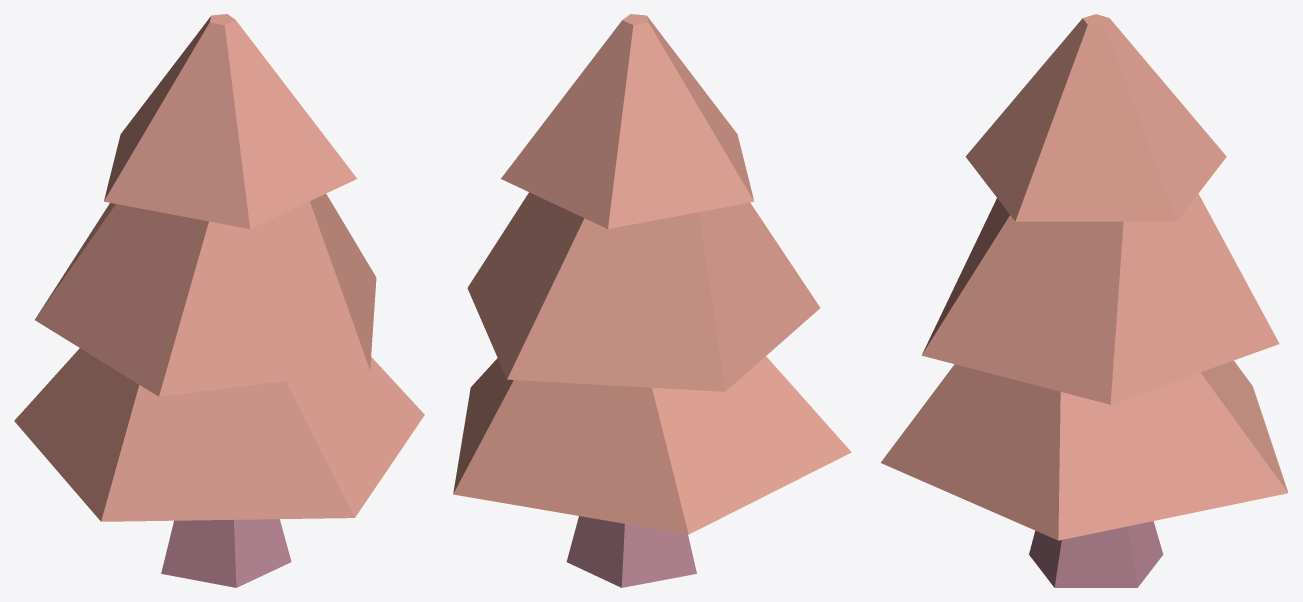
File: redTree.fbx
The picture shows the model from 3 angles, left to right: view 1: azimuth 30°, elevation 25°; view 2: azimuth 150°, elevation 25°; view 3: azimuth 270°, elevation 25°; orthographic projection.
Visible parts, largest first — view 1: Cylinder.118, Cylinder.000; view 2: Cylinder.118, Cylinder.000; view 3: Cylinder.118, Cylinder.000.
Part boxes in pixels (box(x1,y1,x2,y2)): Cylinder.118: box(14, 14, 424, 521); Cylinder.000: box(161, 519, 291, 587); Cylinder.118: box(453, 14, 851, 534); Cylinder.000: box(566, 516, 696, 587); Cylinder.118: box(880, 14, 1288, 540); Cylinder.000: box(1029, 521, 1163, 587).
Size of the model in its own units: 493 by 721 by 490.
